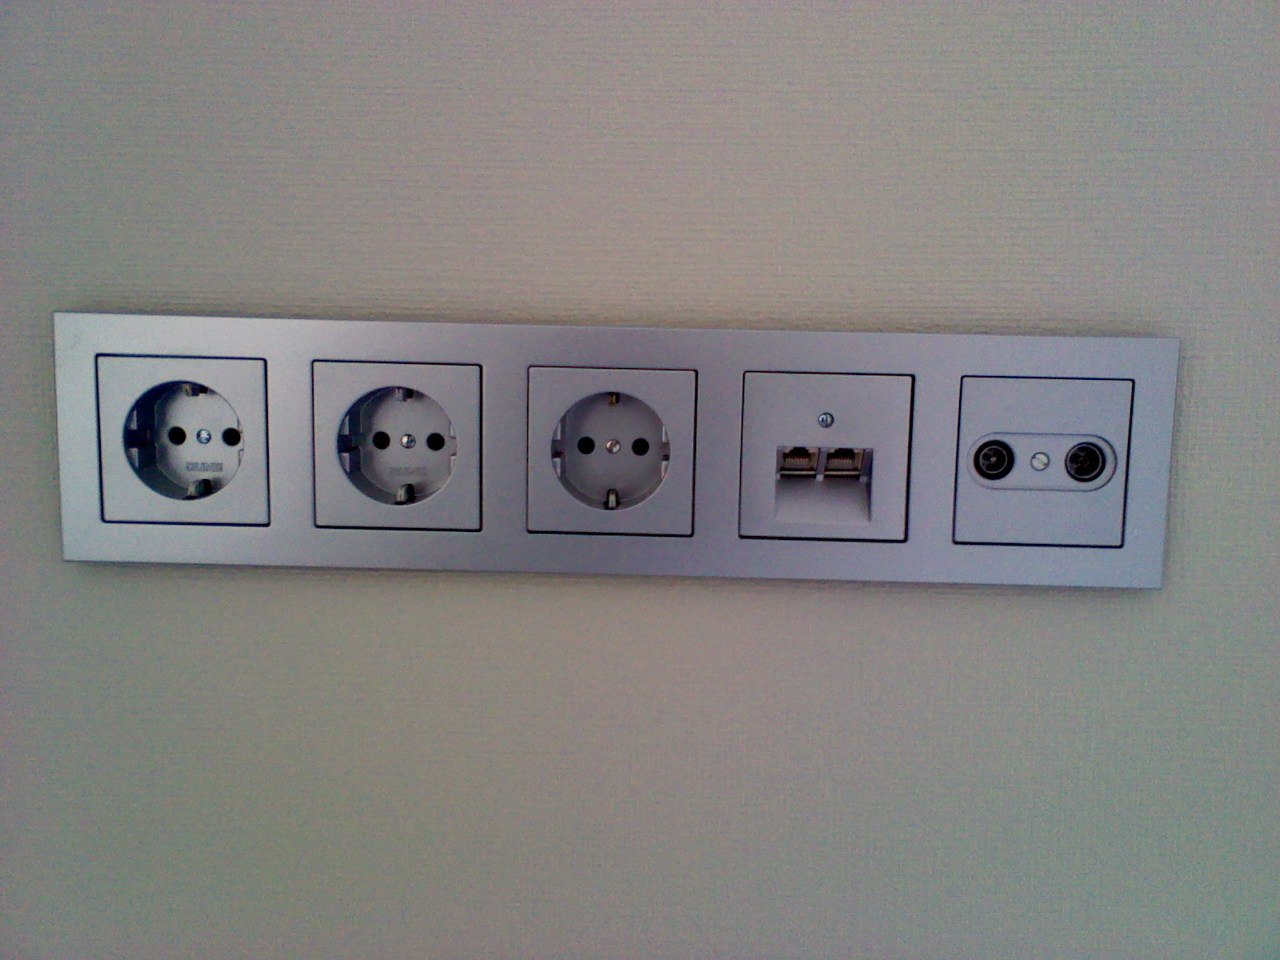raccoon: (329, 378, 461, 514), (545, 385, 674, 523), (115, 376, 249, 504)
